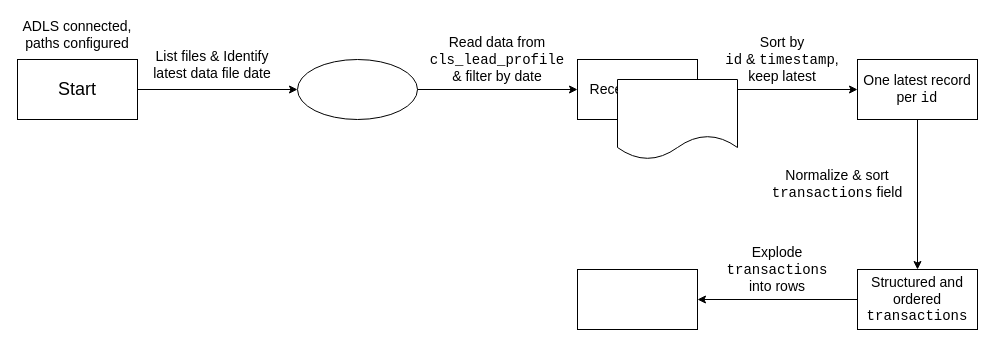
This 995x347 diagram has some shape labels left out. The box of each missing label's shape, as (x1, y1, x2, y2) in pixels:
Latest date: (296, 58, 418, 120)
Unique transaction actions (for each id ): (576, 268, 698, 330)
